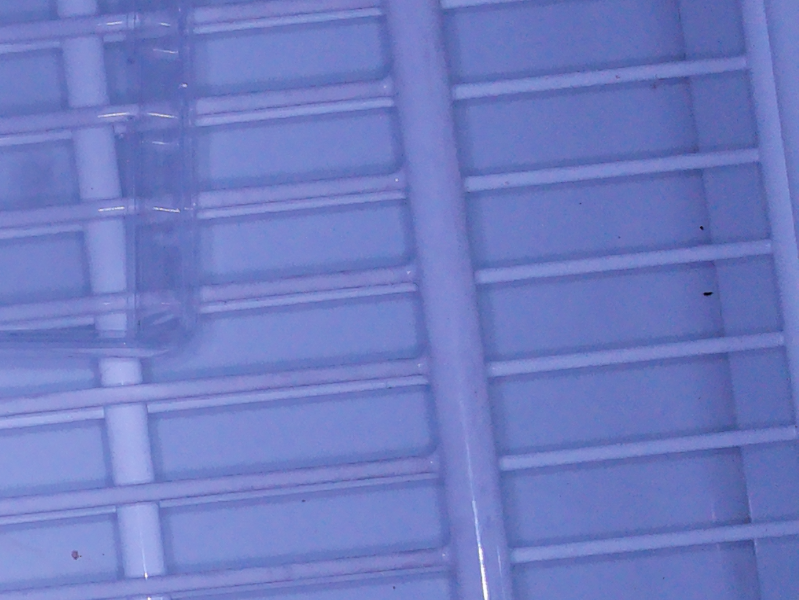plate: (1, 1, 203, 360)
